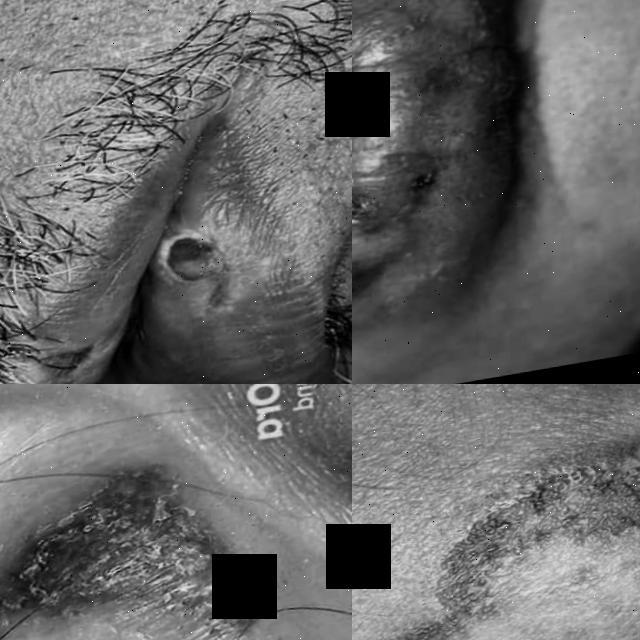lupus-detected: (352, 0, 593, 384), (352, 384, 640, 640), (0, 393, 257, 640), (131, 168, 266, 376), (0, 303, 120, 384)
